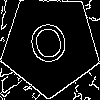O: (25, 20, 75, 76)
